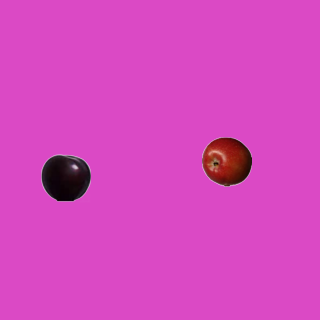Apple Braeburn: (201, 136, 251, 186)
Cherry Wax Black: (40, 152, 90, 202)
